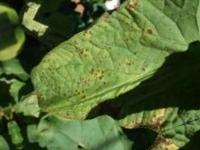Tomato Septoria leaf spot: (9, 0, 200, 138)
